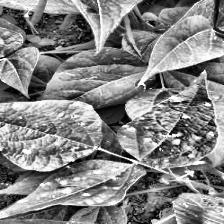Bean Rust: (115, 74, 224, 166), (0, 160, 146, 222), (0, 100, 99, 162)
